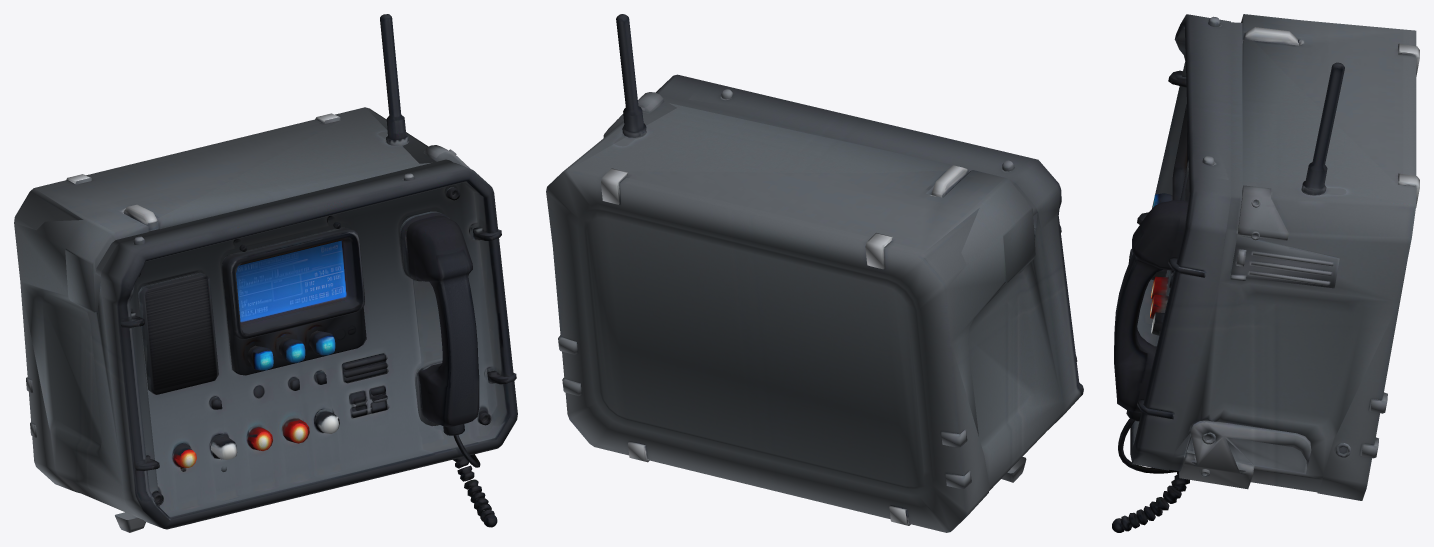
Rendered from Radio Console.glb.
3 views of the same model, side by side, from view 1: azimuth 30°, elevation 25°; view 2: azimuth 150°, elevation 25°; view 3: azimuth 270°, elevation 25° (orthographic). The views are drawn at different scales.
Visible parts, largest first — view 1: tripo_node_acd73477-a455-4e92-8a66-ff980a649b1e; view 2: tripo_node_acd73477-a455-4e92-8a66-ff980a649b1e; view 3: tripo_node_acd73477-a455-4e92-8a66-ff980a649b1e.
Part boxes in pixels (x1,y1,x2,y2): tripo_node_acd73477-a455-4e92-8a66-ff980a649b1e: (14,14,517,532); tripo_node_acd73477-a455-4e92-8a66-ff980a649b1e: (546,14,1083,532); tripo_node_acd73477-a455-4e92-8a66-ff980a649b1e: (1112,14,1419,532).
Size of the model in its own units: 0.9185 by 0.9995 by 0.5972.
Materials: 1 (1 with a texture image).
